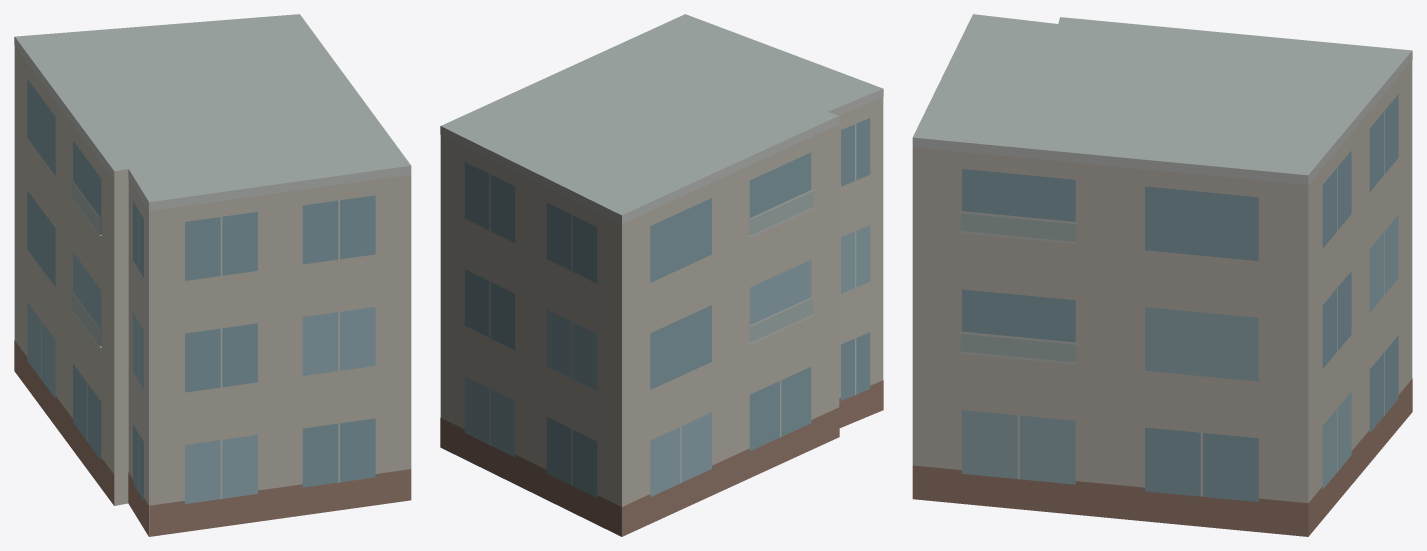
Rendered from survey-upis-32513661.glb.
3 views of the same model, side by side, from view 1: azimuth 30°, elevation 25°; view 2: azimuth 150°, elevation 25°; view 3: azimuth 270°, elevation 25° (orthographic). The views are drawn at different scales.
Parts seen in each view (by area): view 1: survey-upis-32513661.tmp; view 2: survey-upis-32513661.tmp; view 3: survey-upis-32513661.tmp.
Boxes of the visible parts, box(x1,y1,x2,y2) form: survey-upis-32513661.tmp: box(14, 14, 411, 536); survey-upis-32513661.tmp: box(440, 14, 883, 536); survey-upis-32513661.tmp: box(912, 14, 1412, 536).
Size of the model in its own units: 8.76 by 9.15 by 11.48.
